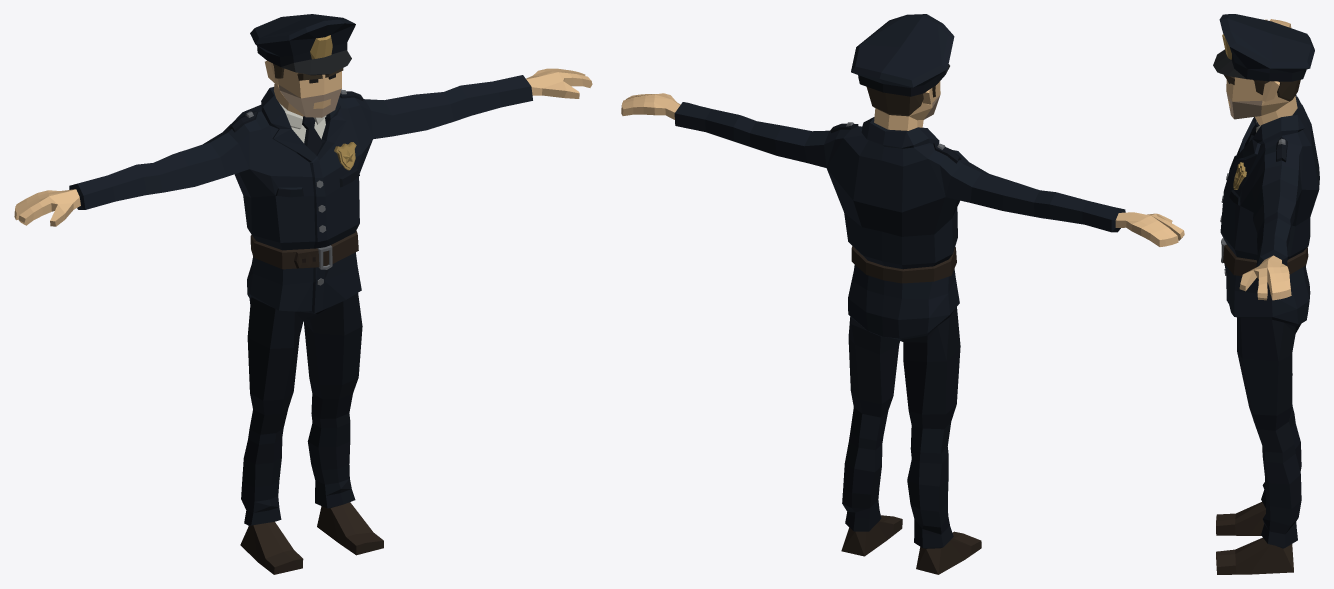
The model's file is Policeman.fbx.
3 renders of one model, left to right at view 1: azimuth 30°, elevation 25°; view 2: azimuth 150°, elevation 25°; view 3: azimuth 270°, elevation 25°, orthographic. The views are drawn at different scales.
Visible parts, largest first — view 1: Policeman; view 2: Policeman; view 3: Policeman.
Boxes of the visible parts, bbox=[...] form: Policeman: bbox=[14, 14, 592, 574]; Policeman: bbox=[621, 14, 1184, 574]; Policeman: bbox=[1213, 14, 1319, 574].
Bounding box in the file's own units: 2.02 × 1.81 × 0.332.
